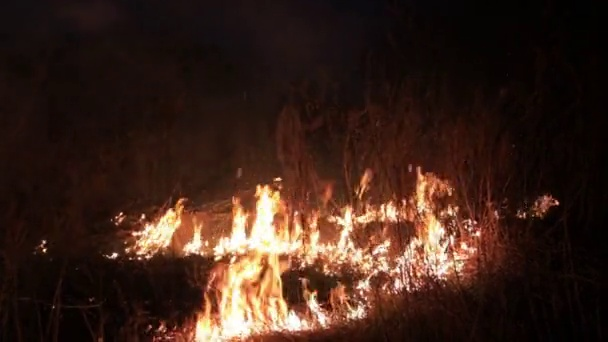fire: (197, 184, 293, 342), (392, 171, 475, 287), (297, 203, 390, 273), (128, 197, 203, 255), (306, 291, 330, 324), (371, 203, 399, 221), (347, 305, 366, 323)
